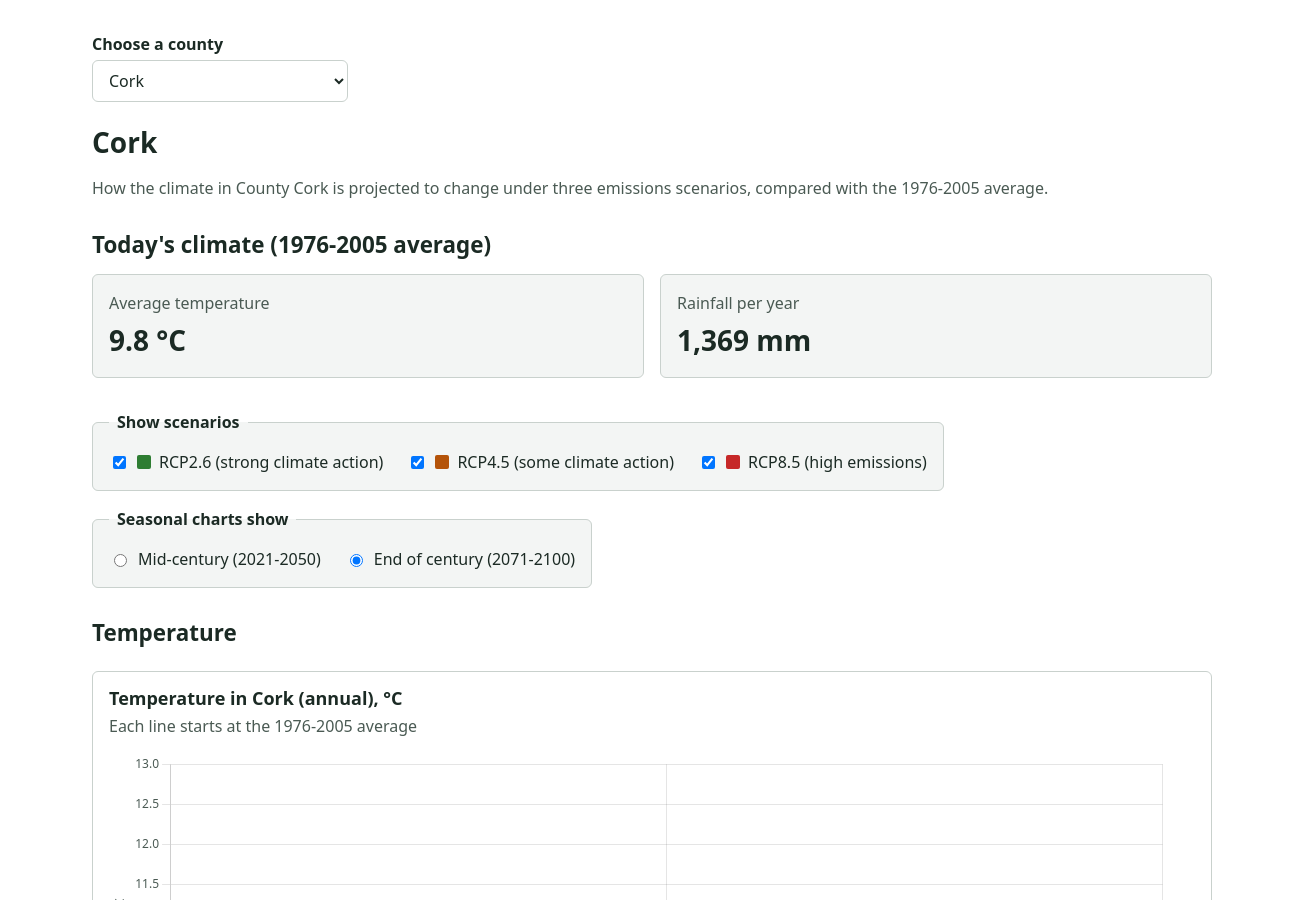
Test: CountyDashboard › writes the scenarios into the URL when a box is unticked (CCD-406)
Expected: the heading "Cork" is shown, [92,123,157,161]
Step 1. Click the checkbox labelled "RCP4.5 (some climate action)" → (418, 462), box [411,456,424,469]
(page scrolled)
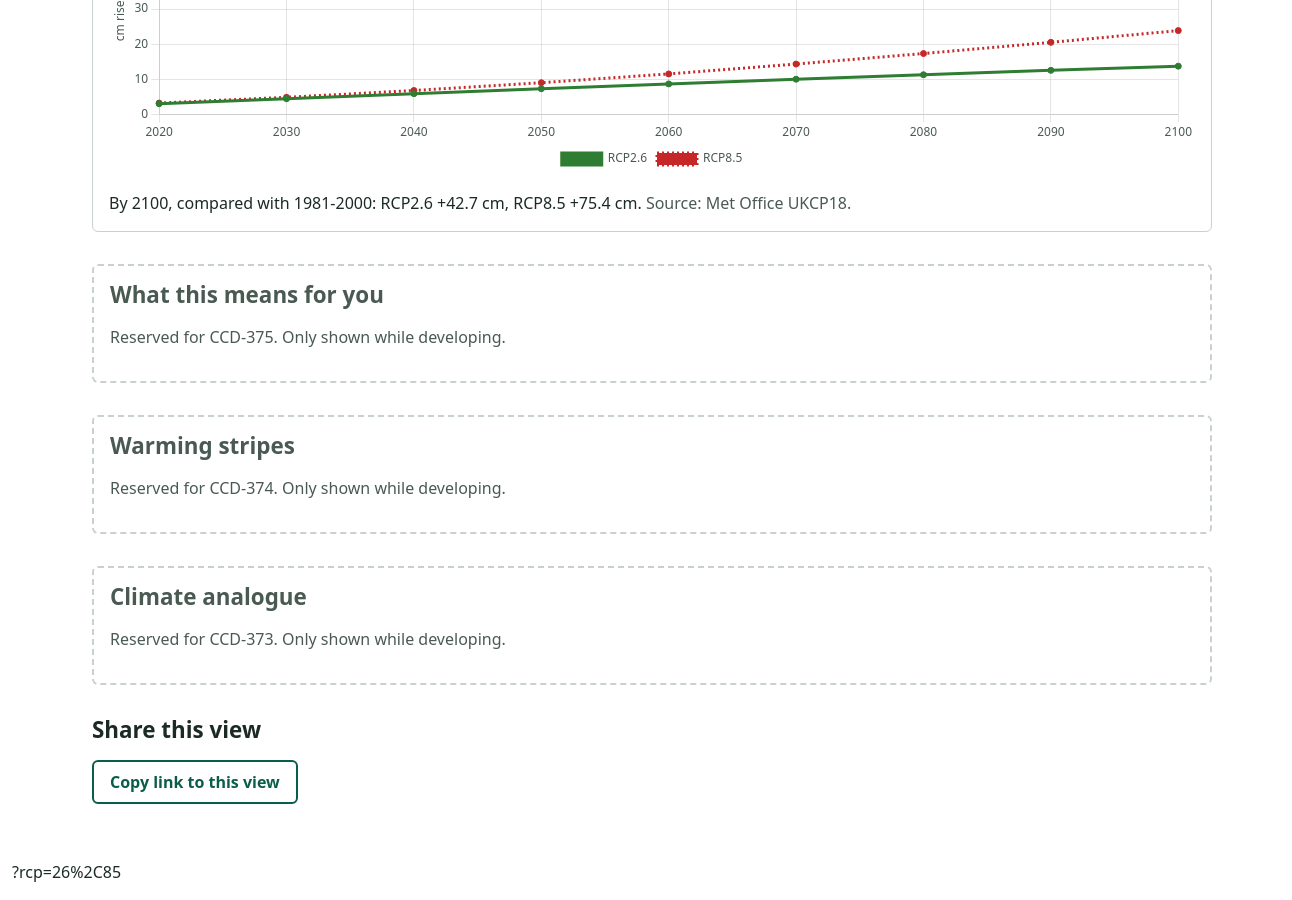
Expected: the text with test id "current-search" reads "?rcp=26%2C85", [12,861,121,883]
